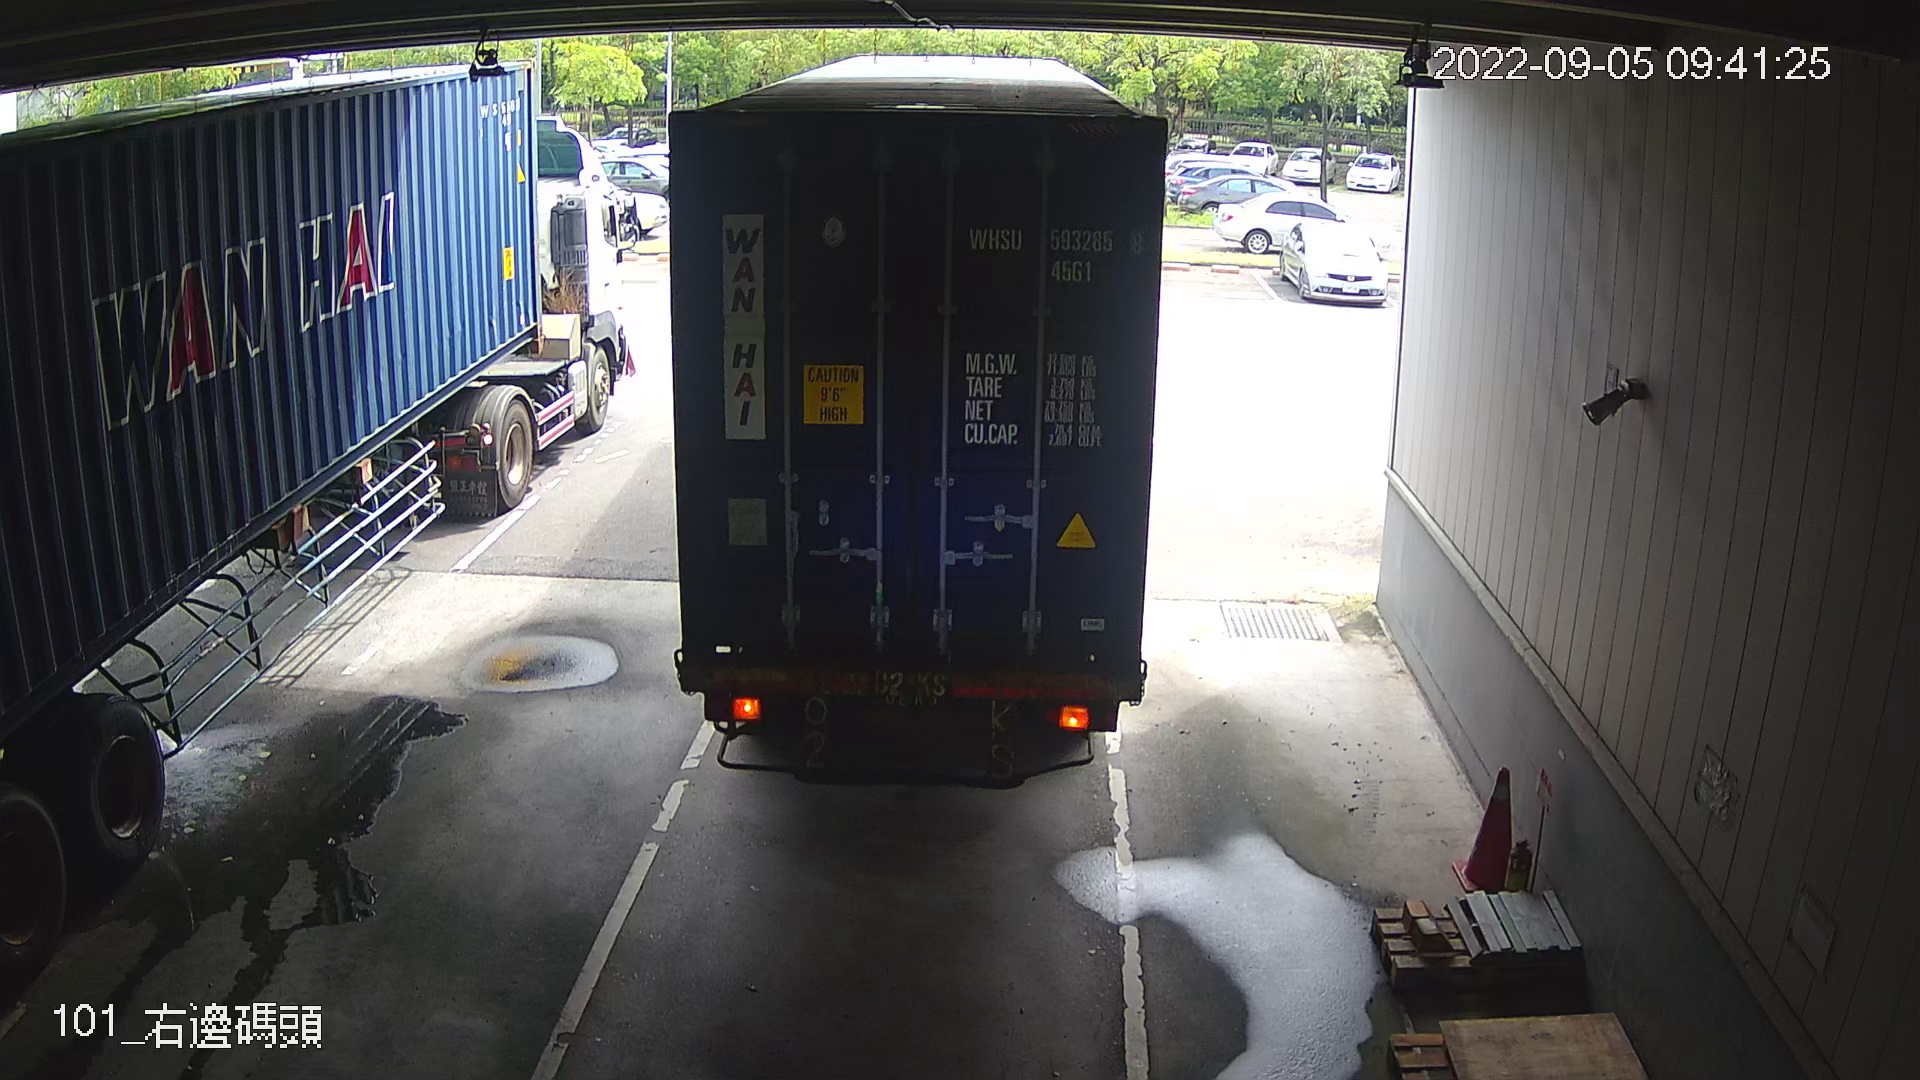container: (957, 214, 1150, 294)
